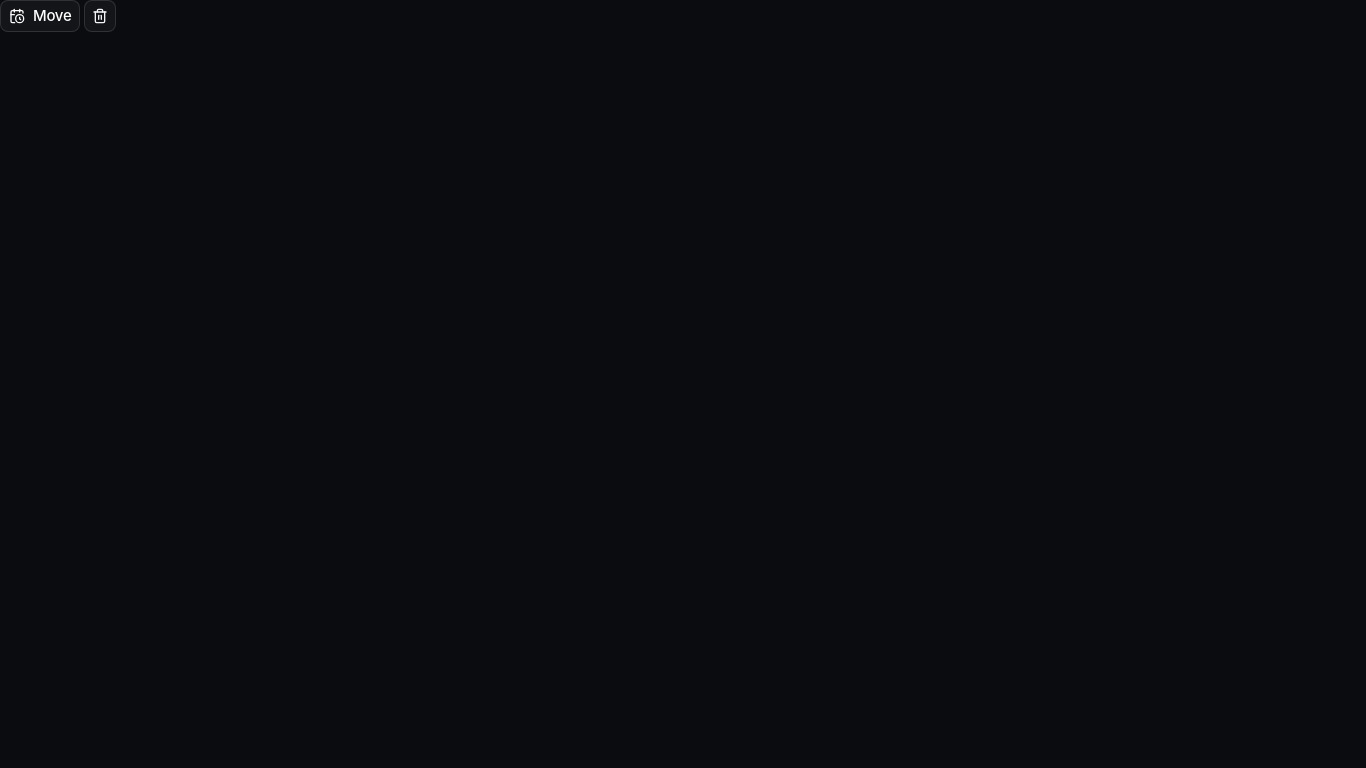
Scenario: Delete this post › keeps the dialog up and says the post is still there when the call gets no answer
The image size is (1366, 768).
Click the button named "Delete this post".
click(100, 16)  # box [84,0,116,32]
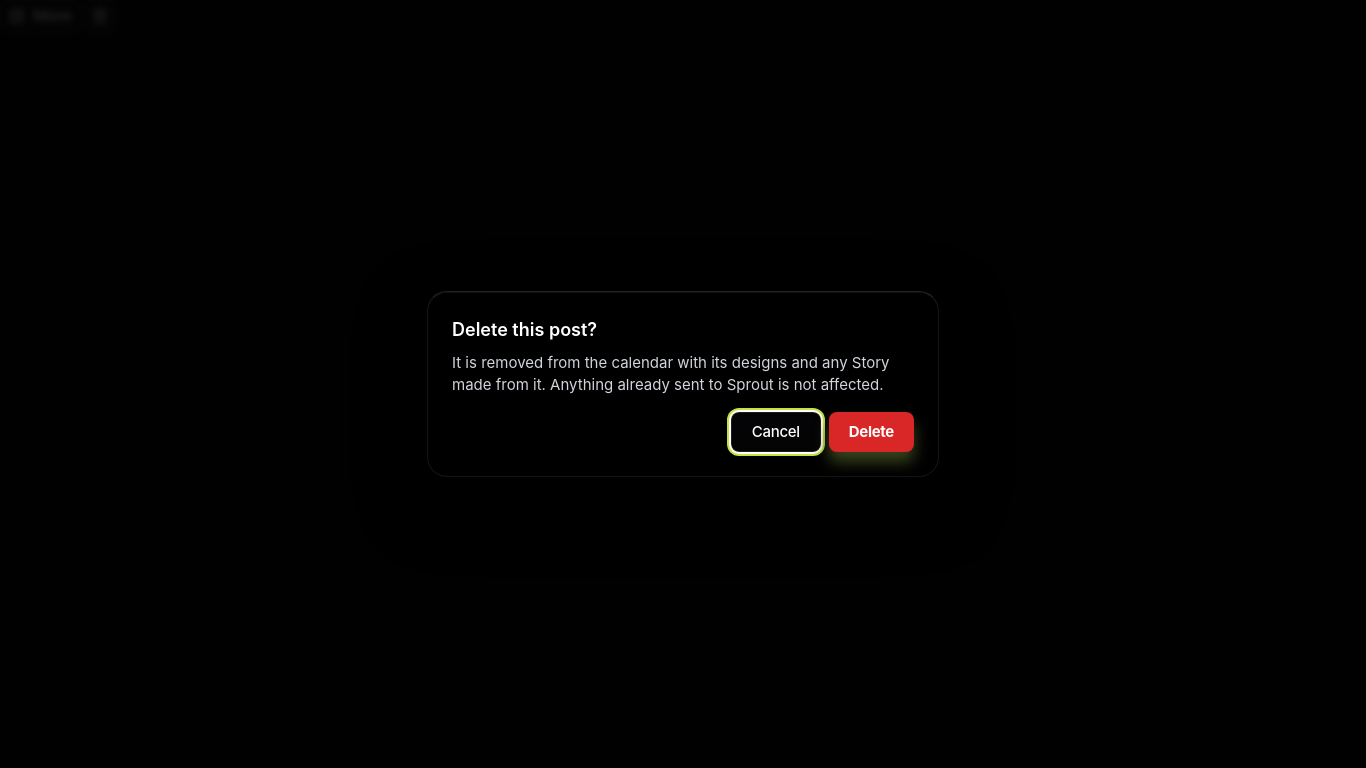
Click the button "Delete".
click(871, 432)  # box [829,412,914,452]
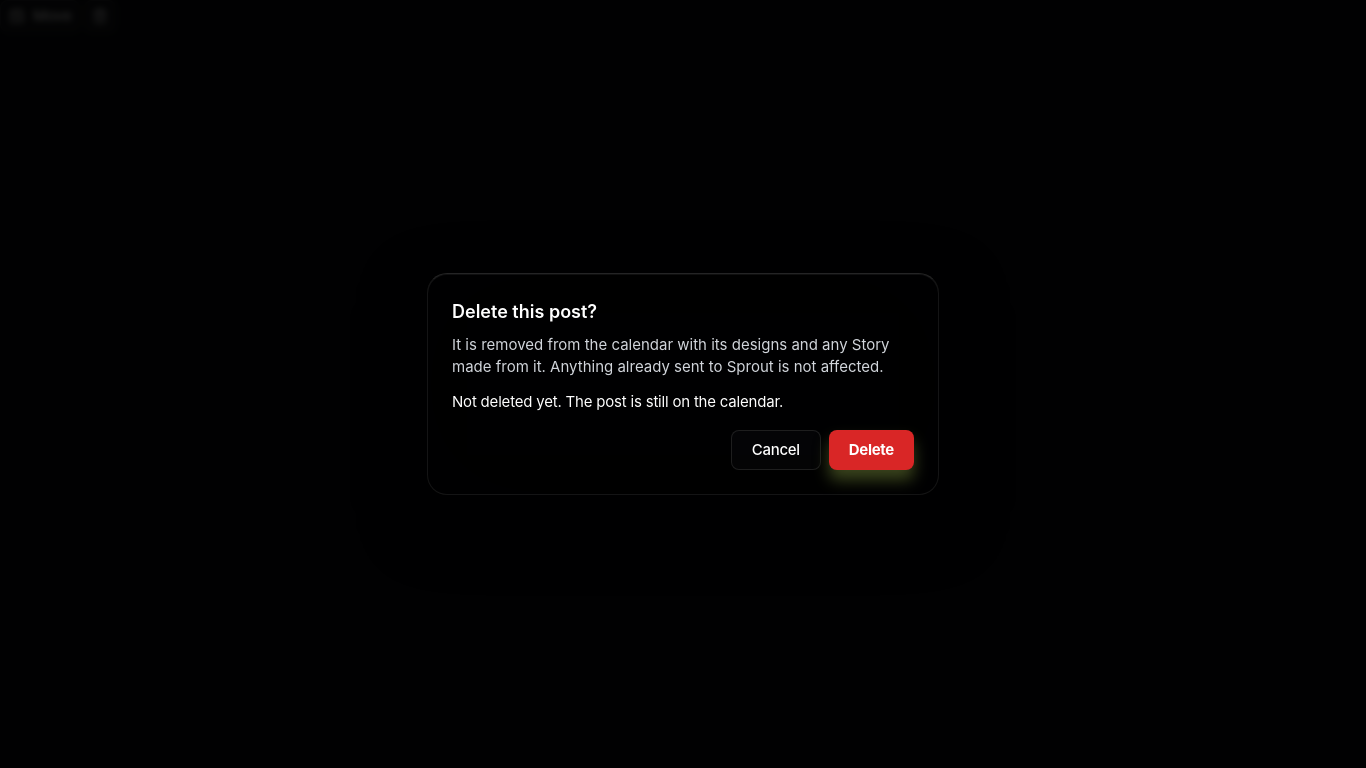
expect the text "Not deleted yet. The post is still on the calendar." is shown: met, box [452,392,783,411]
